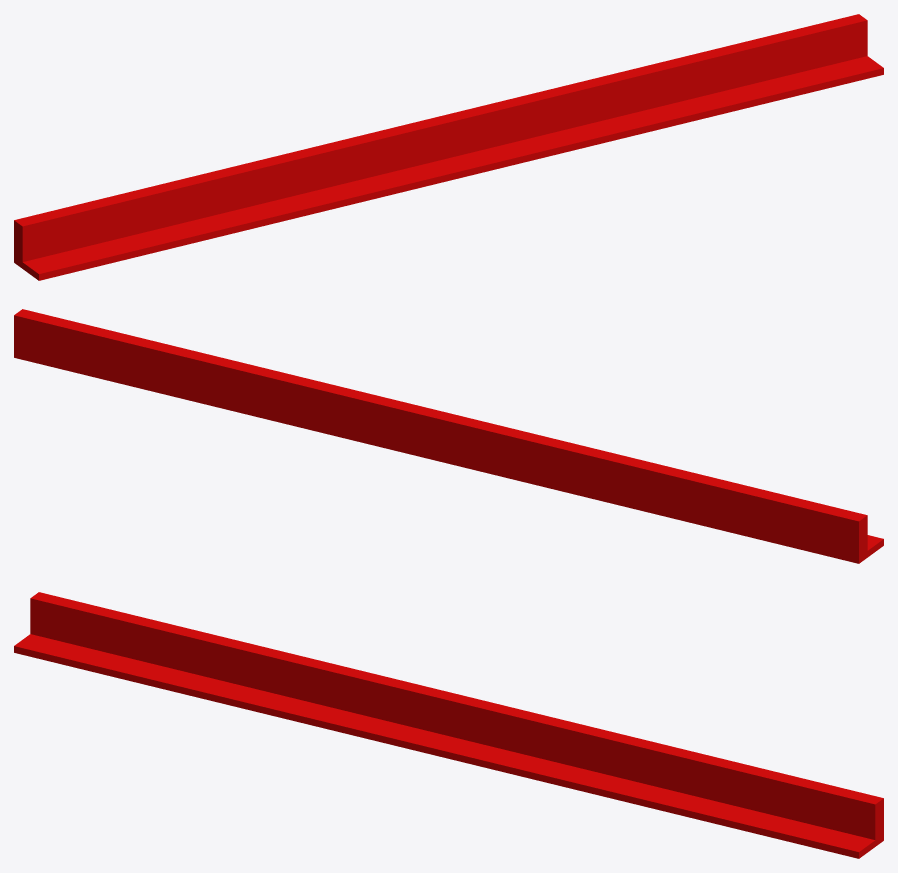
File: SM_WallSkirtingCollider.fbx
3 renders of one model, top to bottom at view 1: azimuth 30°, elevation 25°; view 2: azimuth 150°, elevation 25°; view 3: azimuth 330°, elevation 25°, orthographic.
Visible parts, largest first — view 1: WallSkirtingCollision; view 2: WallSkirtingCollision; view 3: WallSkirtingCollision.
Boxes of the visible parts, bbox=[...] form: WallSkirtingCollision: bbox=[14, 14, 883, 280]; WallSkirtingCollision: bbox=[14, 309, 883, 563]; WallSkirtingCollision: bbox=[14, 592, 883, 858].
Size of the model in its own units: 400 by 19.2 by 20.48.
